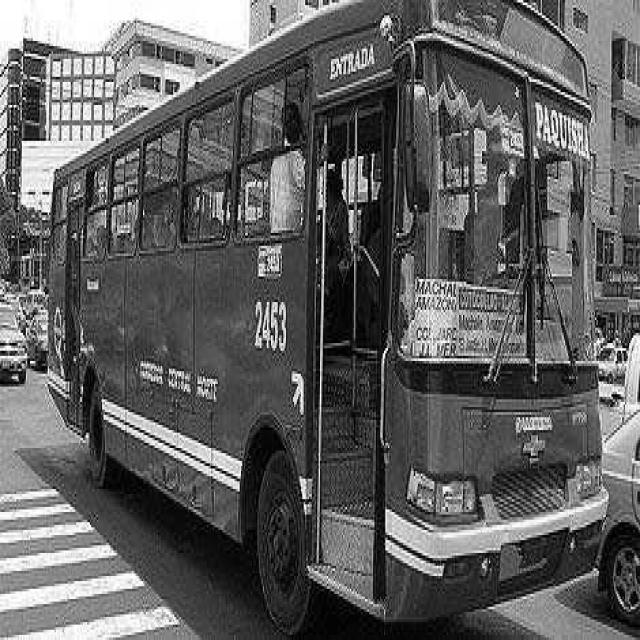Bus: (48, 0, 606, 633)
